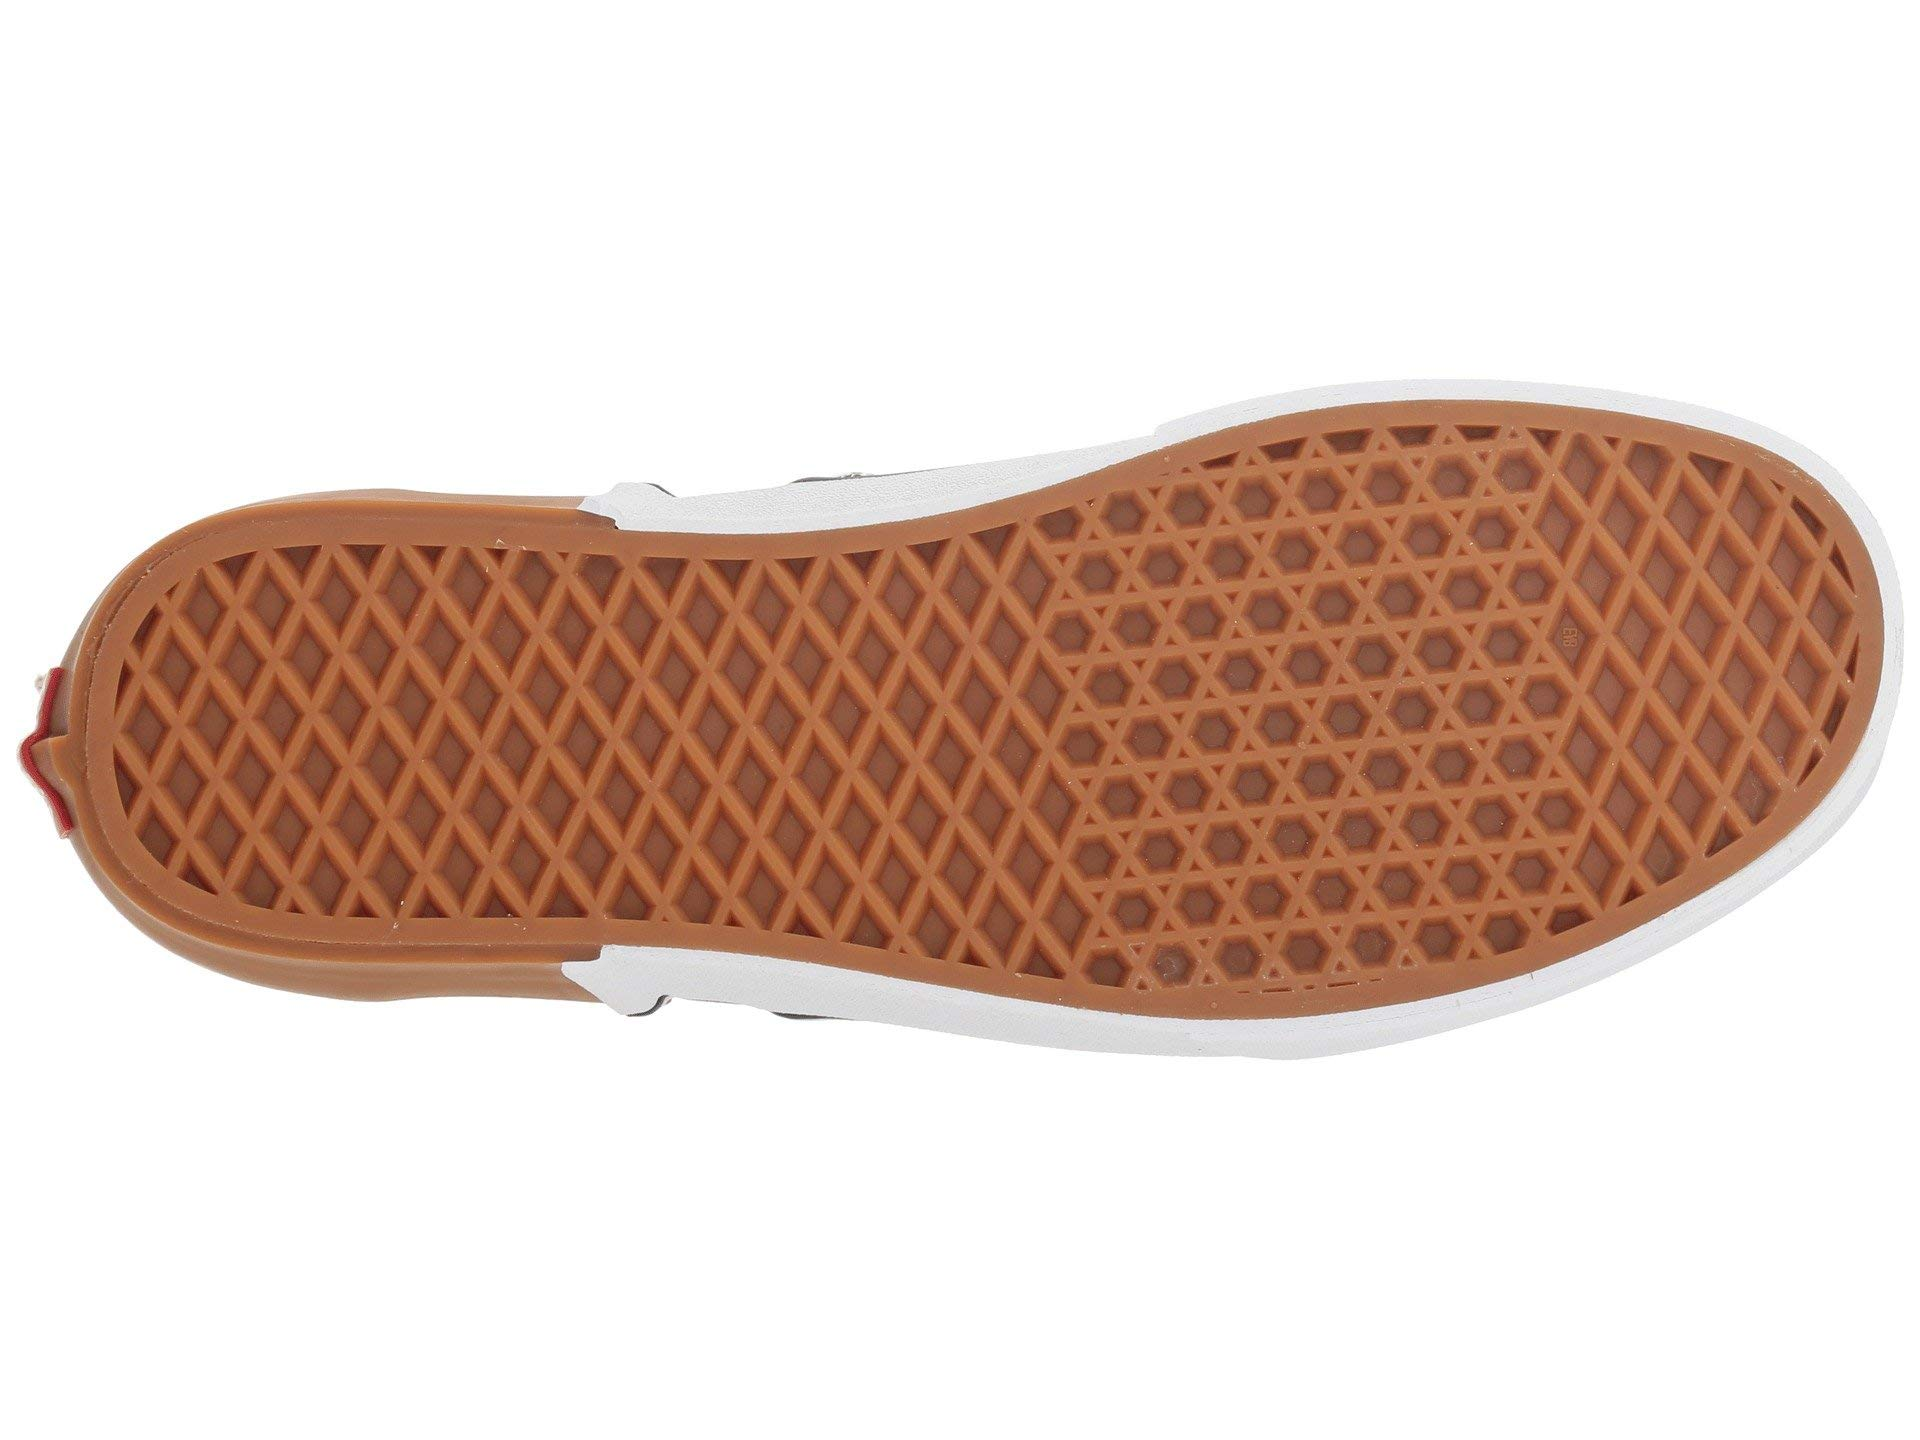polygon: (1107, 514, 1516, 920)
quad: (207, 567, 968, 889)
triangle: (1107, 514, 1516, 920)
